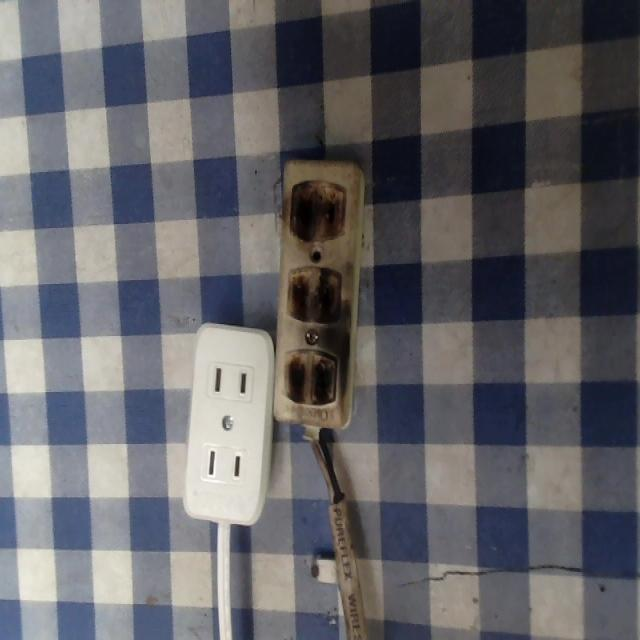-: (285, 177, 350, 248), (281, 340, 342, 409), (282, 266, 347, 330)
